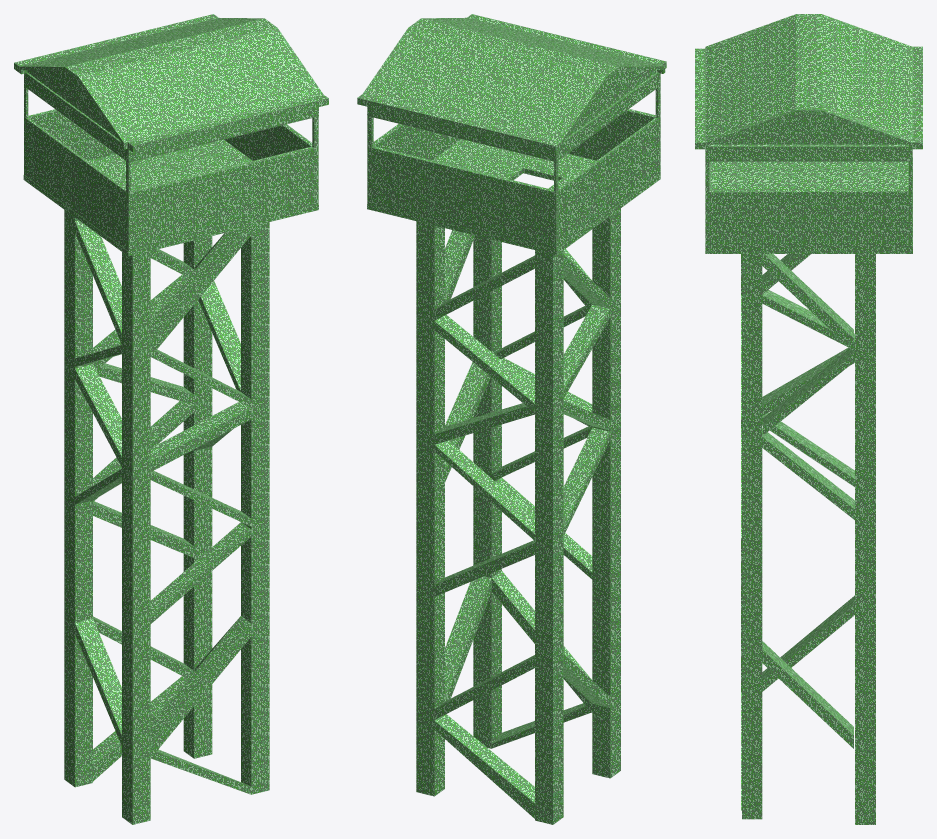
The model's file is BGN_WATCH TOWER.fbx.
The picture shows the model from 3 angles, left to right: view 1: azimuth 30°, elevation 25°; view 2: azimuth 150°, elevation 25°; view 3: azimuth 270°, elevation 25°; orthographic projection.
Parts seen in each view (by area): view 1: BGN_WATCH TOWER; view 2: BGN_WATCH TOWER; view 3: BGN_WATCH TOWER.
Boxes of the visible parts, bbox=[...] form: BGN_WATCH TOWER: bbox=[14, 14, 328, 824]; BGN_WATCH TOWER: bbox=[357, 14, 666, 824]; BGN_WATCH TOWER: bbox=[695, 14, 922, 824].
Bounding box in the file's own units: 522 × 1848 × 522.
1 material, 1 textured.
